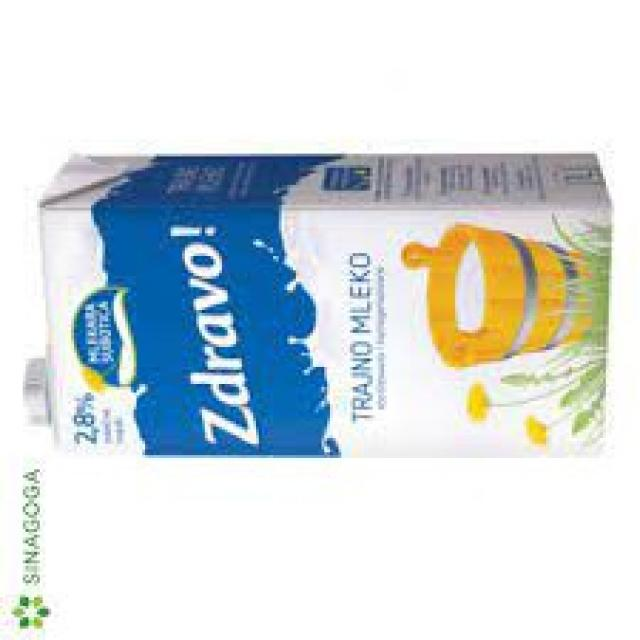non_white_jug: (19, 147, 616, 462)
